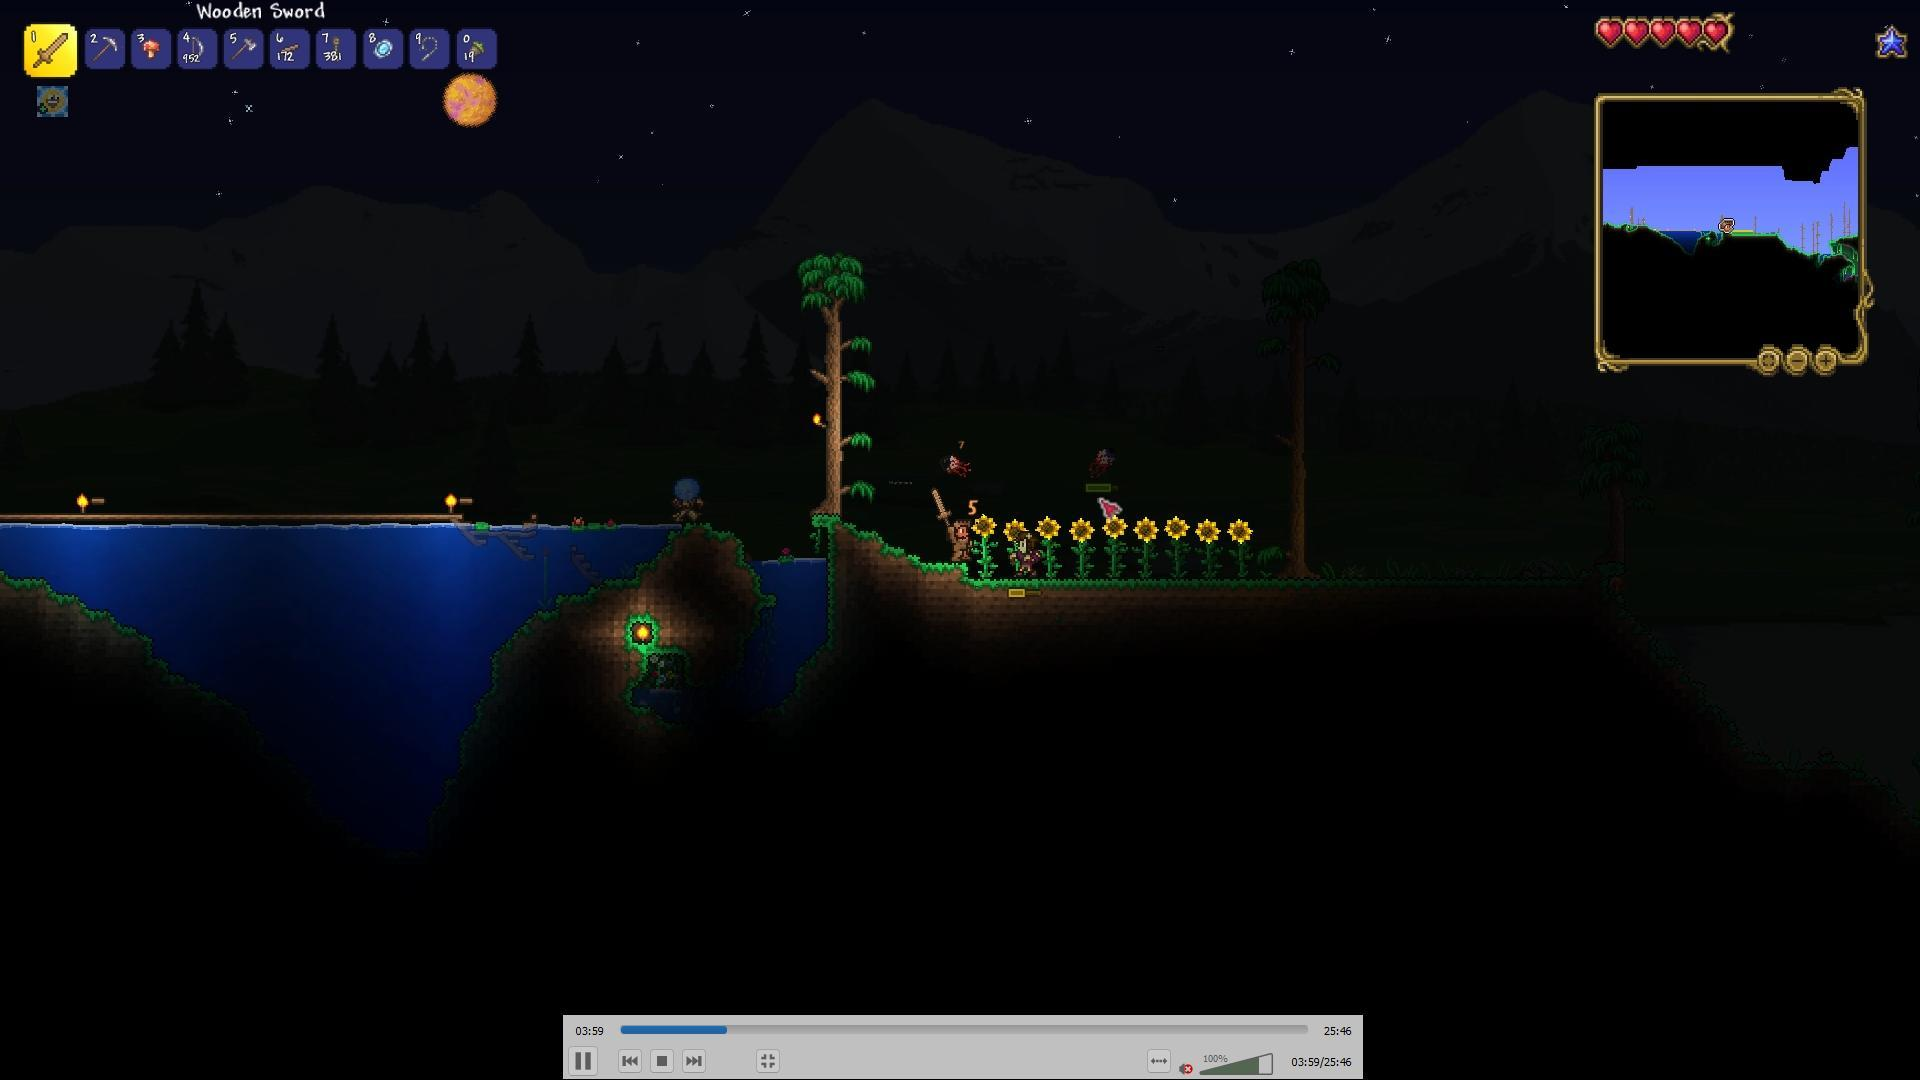eye: (1077, 440, 1122, 475), (938, 447, 980, 483)
